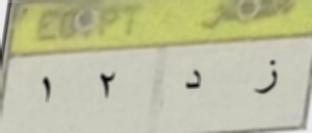1: (35, 67, 59, 110)
2: (91, 64, 120, 101)
daal: (178, 62, 206, 98)
zay: (249, 55, 285, 97)
